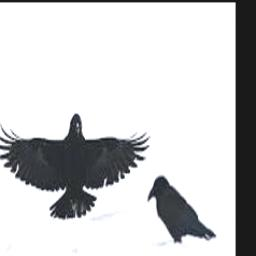Crow: (0, 112, 150, 219), (147, 174, 216, 243)
